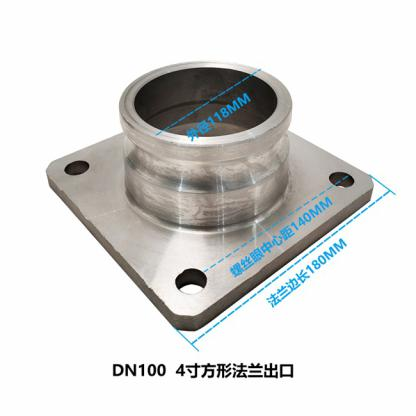FOD: (41, 57, 374, 331)
